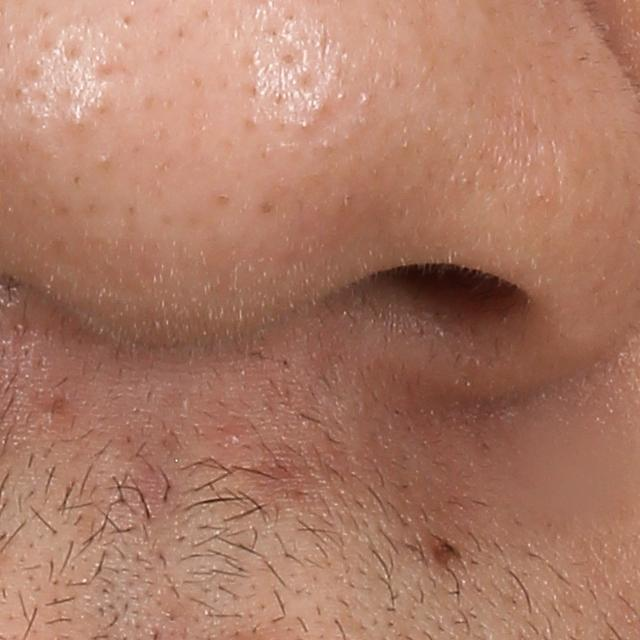comedo: (65, 111, 90, 133)
nevus: (428, 528, 463, 571)
